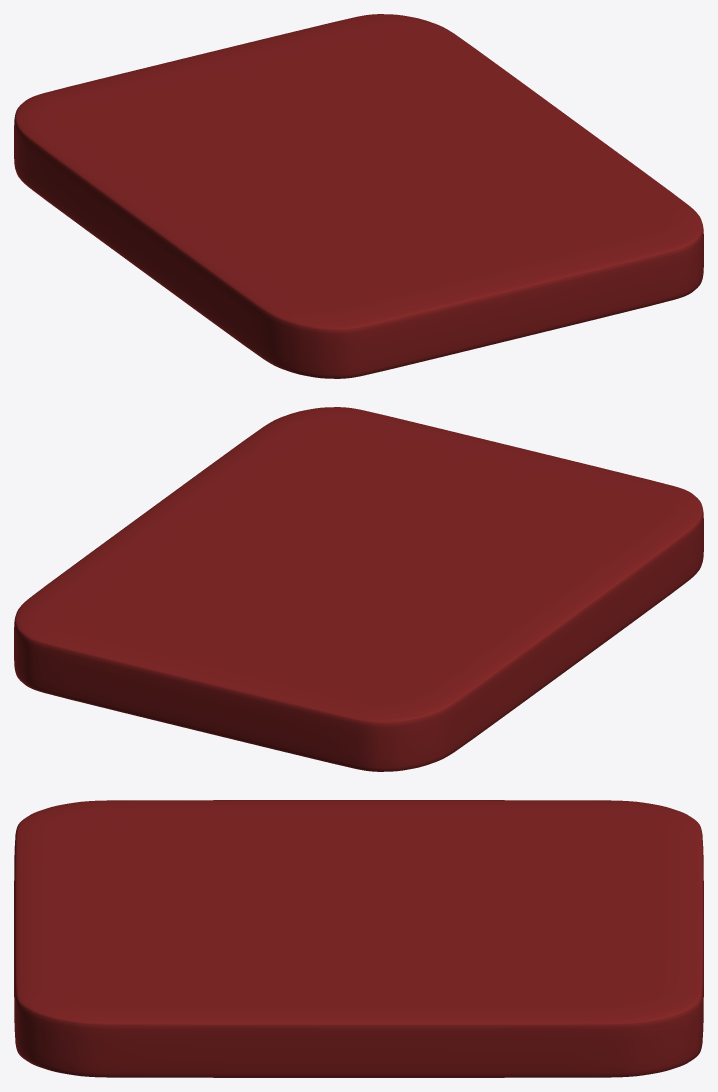
The model's file is Card.fbx.
The picture shows the model from 3 angles, top to bottom: view 1: azimuth 30°, elevation 25°; view 2: azimuth 150°, elevation 25°; view 3: azimuth 270°, elevation 25°; orthographic projection. The views are drawn at different scales.
Parts seen in each view (by area): view 1: Card.001; view 2: Card.001; view 3: Card.001.
Boxes of the visible parts, x1,y1,x2,y2 form: Card.001: [14, 14, 703, 378]; Card.001: [14, 407, 703, 771]; Card.001: [14, 800, 703, 1077].
Size of the model in its own units: 0.7824 by 0.0992 by 1.01.
